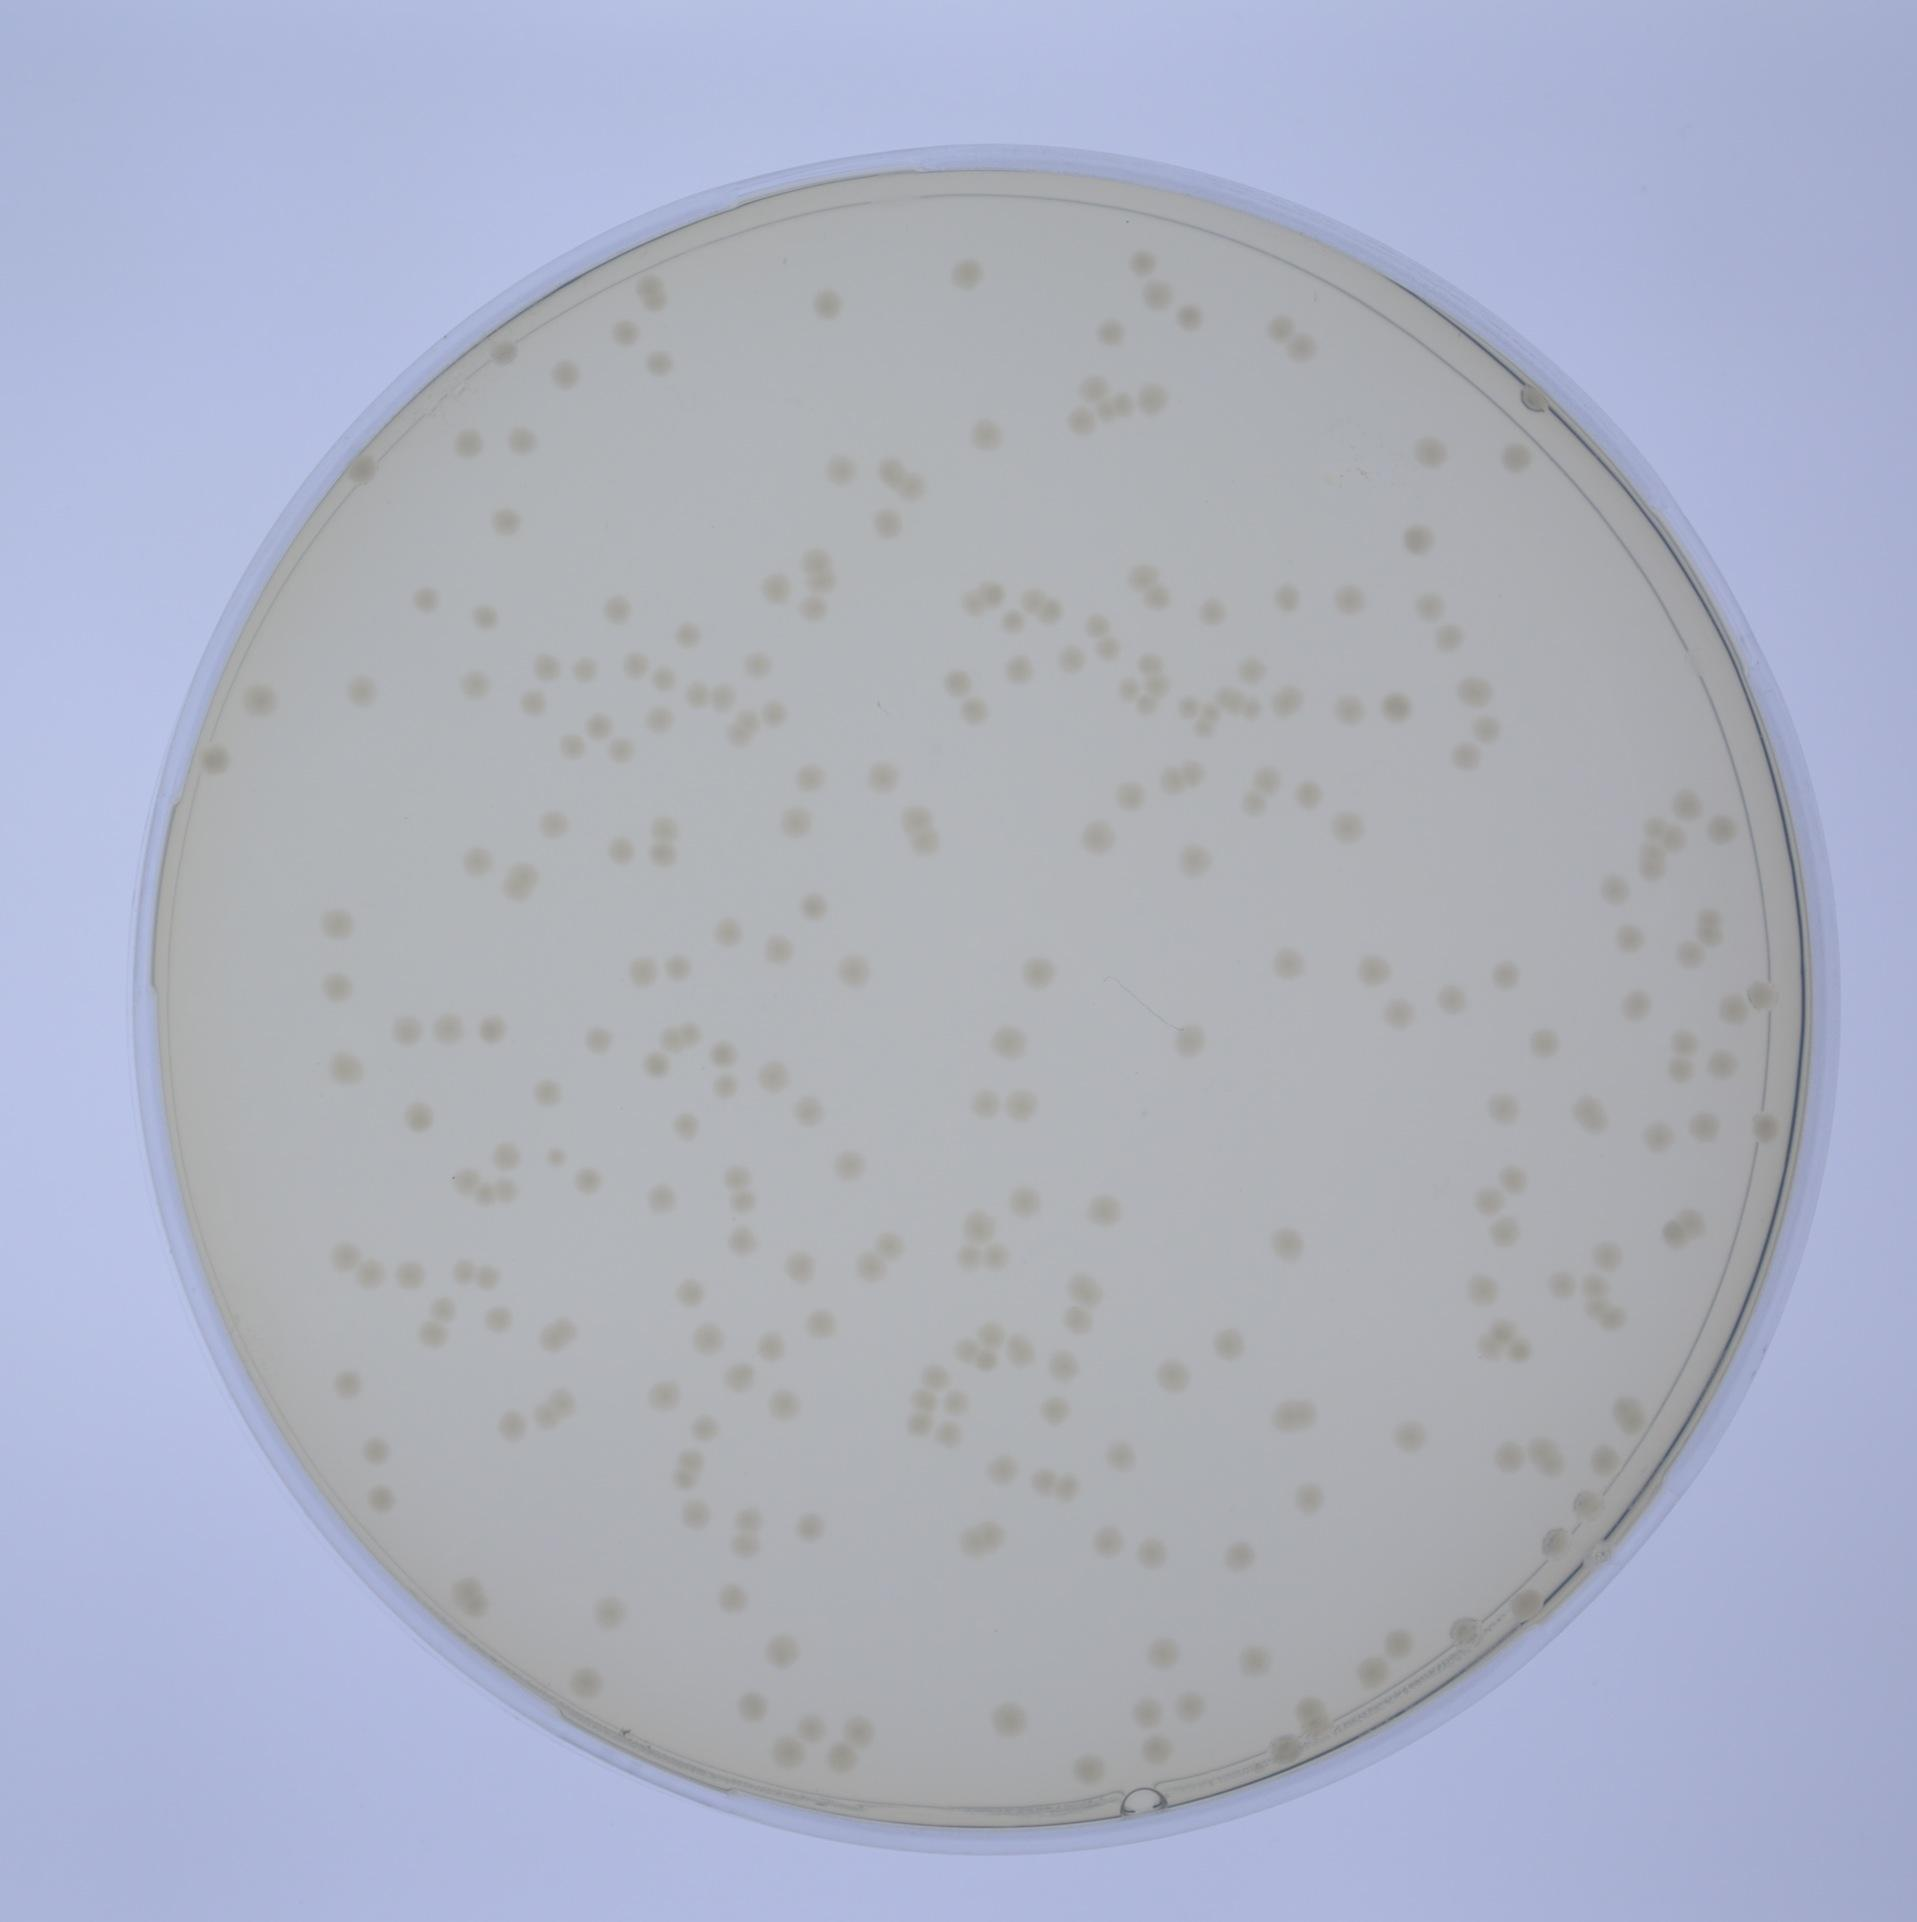colony: (801, 274, 855, 326), (312, 896, 358, 946), (1084, 1184, 1130, 1231), (1279, 327, 1327, 372), (1271, 1393, 1320, 1437), (988, 1696, 1035, 1741), (1151, 1353, 1196, 1400), (1005, 1175, 1052, 1220), (639, 344, 688, 386), (1212, 1320, 1256, 1365), (1218, 1534, 1265, 1576), (1405, 430, 1453, 471), (832, 947, 876, 991), (241, 676, 286, 719), (946, 247, 990, 290), (1351, 947, 1394, 991), (1086, 1524, 1131, 1566), (1099, 1434, 1144, 1476), (964, 411, 1010, 452), (599, 312, 646, 352), (849, 1247, 892, 1290), (798, 1304, 842, 1346), (1020, 950, 1060, 996), (958, 1206, 1001, 1248), (998, 1086, 1041, 1128), (1327, 806, 1370, 848), (776, 1246, 818, 1289), (723, 1220, 764, 1264), (861, 757, 906, 797), (1398, 519, 1441, 560), (1061, 1270, 1106, 1309), (325, 1046, 371, 1084), (825, 1146, 873, 1182), (992, 1332, 1033, 1374), (1268, 1221, 1309, 1263), (338, 671, 383, 709), (1496, 435, 1534, 480), (589, 1593, 629, 1635), (738, 646, 780, 686), (968, 1081, 1006, 1125), (715, 1156, 759, 1194), (454, 662, 495, 702), (1237, 1644, 1278, 1684), (750, 1326, 790, 1367), (1248, 755, 1287, 797), (596, 586, 639, 624), (753, 1055, 796, 1093), (1428, 977, 1465, 1021), (1076, 822, 1122, 857), (311, 965, 352, 1004), (323, 1236, 364, 1275), (1068, 1748, 1107, 1789), (1046, 1345, 1085, 1386), (689, 1320, 730, 1359), (486, 503, 528, 541), (398, 1096, 440, 1134), (491, 1404, 533, 1442), (988, 1024, 1031, 1061), (456, 843, 499, 880), (1145, 1634, 1184, 1674), (1486, 1213, 1526, 1252), (1290, 1479, 1331, 1517), (1163, 1023, 1204, 1061), (868, 506, 909, 544), (789, 1507, 830, 1545), (1701, 810, 1743, 847), (1327, 693, 1369, 730), (791, 1092, 829, 1132), (1265, 941, 1306, 978), (1428, 621, 1469, 658), (720, 1358, 762, 1394), (549, 354, 587, 393), (763, 1633, 802, 1671), (769, 1382, 808, 1420), (1035, 1393, 1075, 1430), (1192, 594, 1232, 631), (1378, 684, 1415, 724), (1131, 378, 1171, 415), (530, 1073, 570, 1110), (1381, 994, 1417, 1035), (906, 826, 948, 861), (672, 1276, 714, 1311), (1743, 976, 1781, 1014), (431, 1009, 470, 1046), (1176, 840, 1215, 877), (960, 694, 1000, 730), (1330, 582, 1370, 618), (1263, 313, 1303, 349), (939, 666, 980, 701), (1048, 642, 1089, 677), (674, 1498, 717, 1531), (735, 1686, 772, 1724), (1392, 1415, 1430, 1452), (1028, 1463, 1066, 1500), (1290, 776, 1327, 814), (1063, 401, 1100, 439), (448, 423, 487, 459), (565, 1665, 604, 1701), (502, 421, 542, 456), (1173, 1687, 1208, 1727), (1442, 738, 1482, 773), (709, 915, 750, 949), (626, 954, 667, 988), (758, 696, 795, 733), (1124, 559, 1161, 596), (1232, 653, 1270, 689), (638, 1180, 676, 1216), (197, 742, 236, 777), (1490, 1438, 1529, 1473), (1746, 1109, 1781, 1148), (1491, 954, 1526, 993), (647, 1376, 686, 1411), (1047, 1473, 1087, 1507), (1413, 588, 1453, 622), (823, 448, 857, 488), (1453, 674, 1495, 706), (873, 451, 909, 488), (341, 448, 376, 486), (1599, 871, 1637, 906), (1132, 1532, 1170, 1567), (1001, 651, 1036, 689), (1127, 245, 1162, 283), (602, 831, 637, 869), (535, 808, 574, 842), (869, 1227, 908, 1261), (667, 1106, 707, 1139), (364, 1480, 400, 1516), (841, 1712, 877, 1748), (1060, 1302, 1096, 1338), (1270, 582, 1306, 618), (1618, 987, 1655, 1022), (1272, 683, 1307, 720), (581, 1021, 618, 1056), (824, 1743, 862, 1777), (1470, 1184, 1508, 1218), (757, 568, 795, 602), (722, 1184, 760, 1218), (758, 933, 796, 967), (570, 1166, 604, 1204), (385, 1012, 424, 1045), (639, 705, 678, 738), (787, 759, 827, 791), (447, 1163, 483, 1198), (1714, 991, 1749, 1027), (1668, 788, 1704, 823), (920, 1360, 956, 1395), (1268, 1731, 1305, 1765), (579, 708, 616, 742), (689, 1410, 726, 1444), (795, 890, 833, 923), (645, 838, 683, 871), (647, 811, 686, 843), (955, 1520, 984, 1563), (448, 1255, 483, 1290), (1587, 1443, 1622, 1478), (1704, 1047, 1739, 1082), (974, 1317, 1009, 1352), (391, 1256, 425, 1292), (899, 803, 935, 837), (1032, 594, 1068, 628), (1118, 779, 1155, 812), (1171, 301, 1208, 334), (353, 1254, 385, 1292), (777, 802, 815, 834), (477, 1009, 511, 1044), (1356, 1655, 1391, 1689), (1381, 1628, 1416, 1662), (950, 1335, 985, 1369), (770, 1735, 803, 1771), (1448, 1613, 1484, 1646), (1508, 1588, 1544, 1621), (1527, 1025, 1563, 1058), (795, 592, 831, 625), (1140, 580, 1176, 613), (674, 1442, 710, 1475), (1588, 1240, 1626, 1271), (514, 686, 552, 717), (496, 877, 534, 908), (983, 1454, 1022, 1484), (491, 1137, 525, 1171), (1141, 1732, 1175, 1766), (1094, 633, 1128, 667), (706, 1039, 740, 1073), (1538, 1526, 1573, 1559), (1464, 1273, 1499, 1306), (1487, 1091, 1522, 1124), (971, 1342, 1004, 1377), (1081, 610, 1116, 643), (528, 649, 563, 682), (1141, 279, 1178, 310), (894, 471, 931, 502), (732, 1504, 769, 1535), (534, 1136, 572, 1166), (801, 569, 843, 596), (979, 1516, 1008, 1555), (1546, 1268, 1579, 1302), (1641, 1121, 1674, 1155), (710, 1068, 745, 1100), (978, 574, 1010, 609), (530, 1400, 562, 1435), (415, 1317, 451, 1348), (330, 1369, 366, 1400), (1130, 688, 1166, 719), (1074, 369, 1110, 400), (600, 732, 636, 763), (1498, 1162, 1531, 1195), (1660, 1217, 1693, 1250), (471, 1261, 505, 1293), (717, 1583, 751, 1615), (1132, 1696, 1166, 1728), (955, 1237, 987, 1271), (1179, 755, 1211, 789), (904, 1381, 939, 1412), (619, 648, 654, 679), (1595, 1302, 1630, 1333), (1577, 1106, 1612, 1137), (485, 1300, 515, 1336), (424, 1293, 460, 1323), (1469, 712, 1505, 742), (405, 585, 442, 614), (507, 857, 544, 886), (1673, 937, 1705, 970), (976, 1236, 1008, 1269), (555, 730, 588, 762), (548, 1385, 580, 1418), (1569, 1487, 1603, 1518), (1136, 650, 1170, 681), (1171, 691, 1205, 722), (1091, 316, 1125, 347), (1523, 1433, 1559, 1462), (1568, 1092, 1605, 1120), (1606, 1392, 1644, 1419), (632, 270, 670, 297), (568, 651, 600, 683), (1677, 1206, 1709, 1238), (995, 606, 1028, 637), (707, 680, 738, 713), (1239, 785, 1270, 818), (638, 1052, 672, 1082), (663, 953, 697, 983), (960, 587, 990, 621), (801, 544, 837, 572), (1488, 1316, 1520, 1347), (1688, 1110, 1720, 1141), (932, 1418, 965, 1448), (1538, 1448, 1568, 1481), (1292, 1694, 1330, 1720), (489, 339, 524, 367), (680, 679, 715, 707), (449, 1573, 484, 1601), (1612, 922, 1643, 953), (941, 1385, 972, 1416), (470, 600, 502, 630), (1659, 823, 1689, 855), (1502, 1336, 1535, 1365), (535, 1323, 564, 1356), (1137, 671, 1172, 698), (796, 1712, 826, 1743), (1669, 1029, 1700, 1059), (1159, 766, 1189, 797), (650, 663, 682, 692), (553, 1313, 582, 1345), (730, 1532, 764, 1559), (472, 1178, 503, 1207), (364, 1436, 393, 1467), (492, 1176, 524, 1204), (732, 708, 764, 736), (1645, 816, 1674, 846), (668, 618, 698, 647), (1235, 693, 1264, 722), (1664, 1055, 1694, 1083), (658, 1026, 686, 1056), (461, 1590, 489, 1620), (1581, 1295, 1614, 1320), (1695, 926, 1728, 951), (1114, 676, 1148, 700), (1298, 1713, 1332, 1737), (907, 1407, 934, 1437), (1583, 1274, 1612, 1301), (724, 723, 751, 752), (669, 1467, 699, 1493), (1617, 1411, 1648, 1436), (679, 1020, 705, 1049), (1019, 587, 1049, 612), (1477, 1332, 1505, 1358), (1637, 861, 1667, 885), (1694, 904, 1725, 927), (639, 293, 670, 316), (1215, 683, 1241, 709), (1198, 698, 1223, 724), (1190, 714, 1215, 739), (1096, 400, 1117, 425), (1639, 843, 1666, 862), (1113, 394, 1134, 417)
